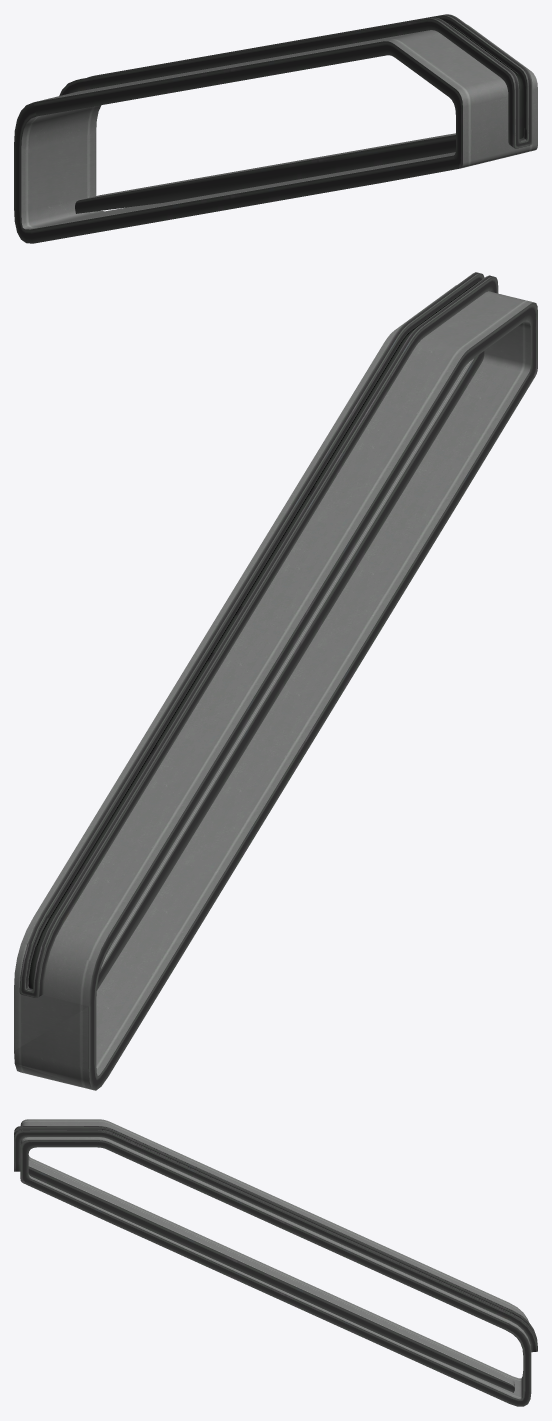
Rendered from Club_StairRail_02.FBX.
The picture shows the model from 3 angles, top to bottom: view 1: azimuth 30°, elevation 25°; view 2: azimuth 150°, elevation 25°; view 3: azimuth 270°, elevation 25°; orthographic projection. The views are drawn at different scales.
Visible parts, largest first — view 1: Club_StairRail_02; view 2: Club_StairRail_02; view 3: Club_StairRail_02.
Part boxes in pixels (x1,y1,x2,y2): Club_StairRail_02: (14,14,537,243); Club_StairRail_02: (14,272,537,1090); Club_StairRail_02: (14,1119,537,1406).
Bounding box in the file's own units: 0.3 × 1.83 × 3.19.
